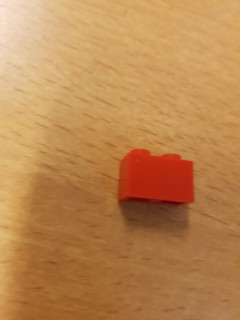1x2 red: (117, 149, 198, 207)
